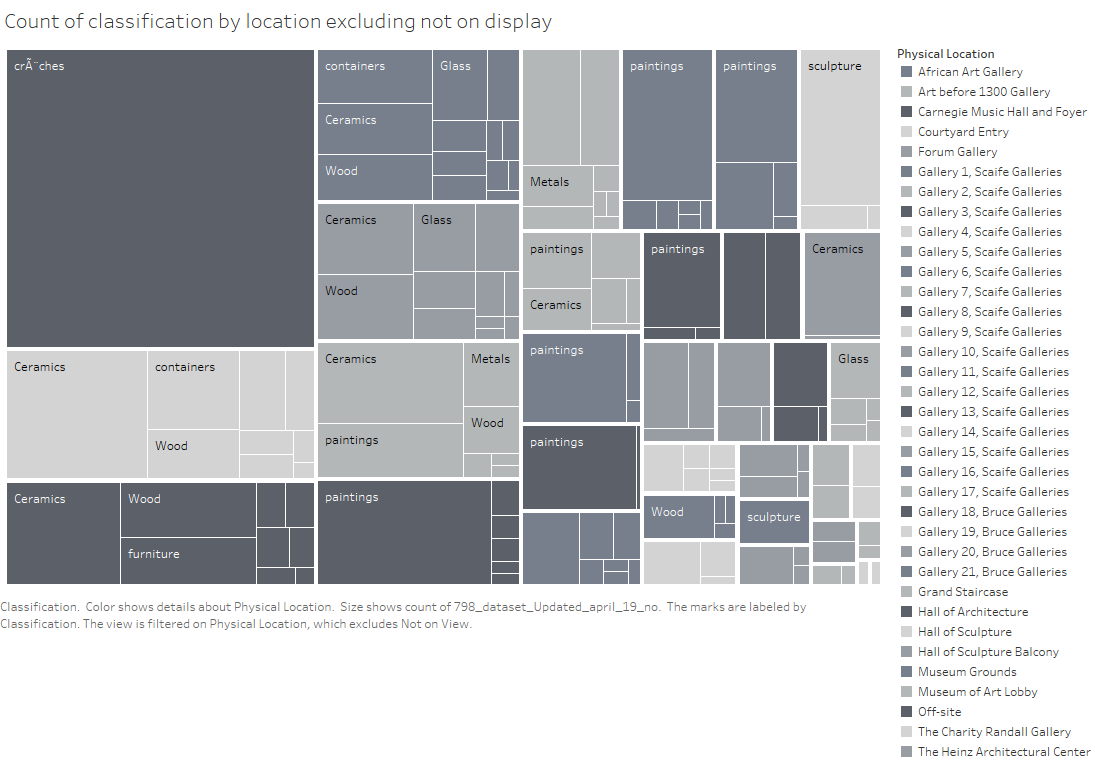

The page's visual inventory and layout, read from the dashboard file:
{"tool":"tableau","page":{"name":"Dashboard 1","canvas":[1000,800],"ordinal":0},"visuals":[{"type":"worksheet","title":"Sheet 2","mark":"Automatic","rows":["798!data!only!not!on!view!rows_52761707DF0A46CA932B8A59ADC1F"],"cols":["date_acquired"],"box":[8,8,984,784]}]}

Visuals, with their boxes on the page's 1000x800 design canvas (x1, y1, x2, y2). These are canvas units, not pixel positions in the 1095x761 screenshot, which may show the page scaled, cropped or inside an application window:
"Sheet 2" worksheet: bbox(8, 8, 992, 792)
